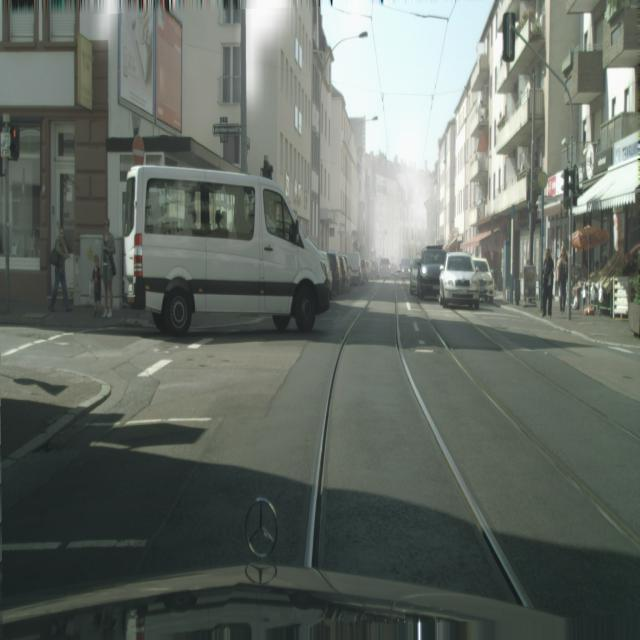motorcycle: (122, 160, 332, 338)
person: (48, 226, 72, 312), (102, 218, 116, 319), (541, 248, 554, 318), (556, 242, 568, 314), (92, 252, 102, 318)
rider: (123, 159, 332, 337)
truck: (438, 251, 480, 311), (416, 245, 446, 301), (471, 256, 495, 304), (326, 251, 342, 297), (346, 251, 364, 287), (409, 258, 421, 295), (379, 257, 392, 278), (399, 257, 411, 278)
